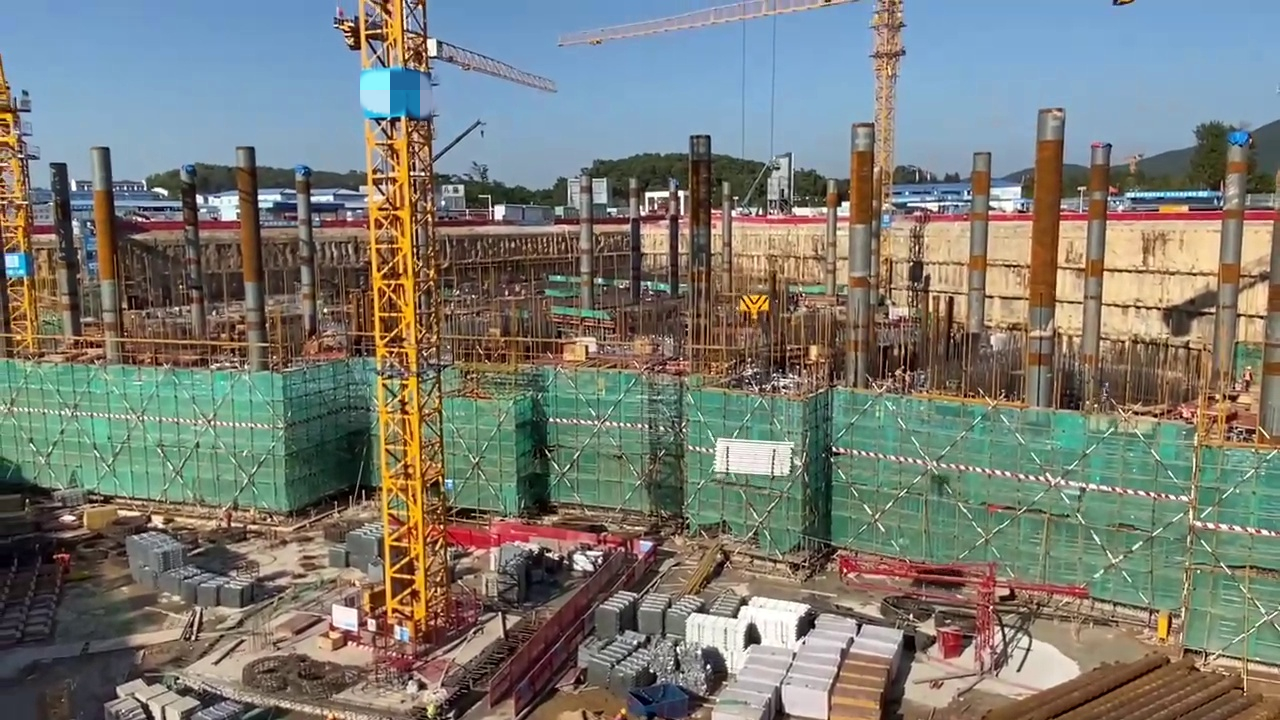board: (835, 656, 887, 720)
fence: (490, 514, 605, 547)
hook: (739, 293, 773, 312)
rebar: (970, 645, 1271, 720)
scaffold: (582, 591, 692, 687), (126, 532, 257, 605), (741, 586, 811, 641), (687, 615, 747, 671), (714, 436, 798, 475), (342, 519, 384, 574), (674, 644, 719, 693)
